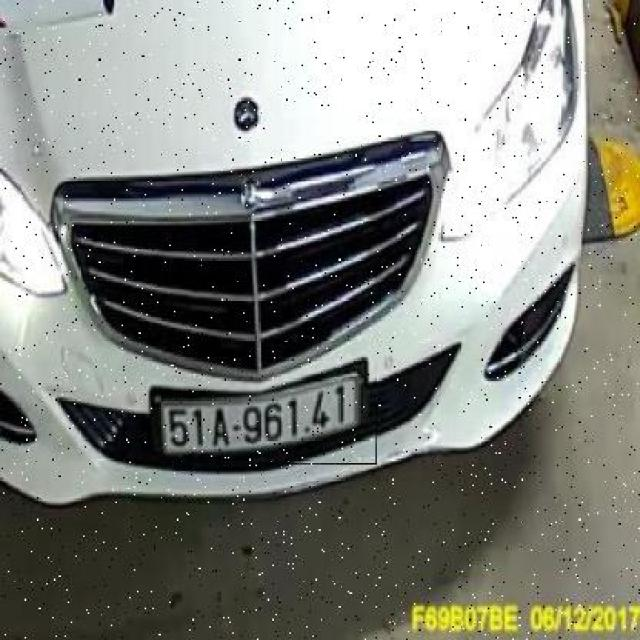number_plate: (148, 374, 377, 464)
